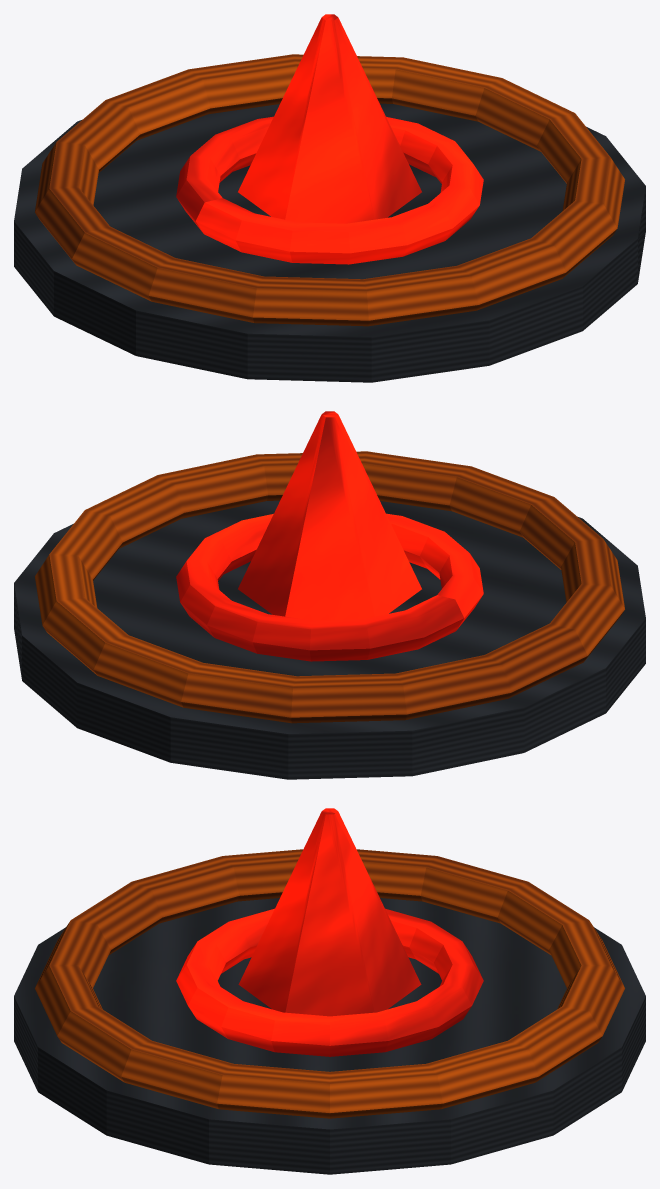
File: SM_FC_EmberSigil.fbx
3 views of the same model, one above another, from view 1: azimuth 30°, elevation 25°; view 2: azimuth 150°, elevation 25°; view 3: azimuth 270°, elevation 25° (orthographic).
Visible parts, largest first — view 1: SM_FC_EmberSigil; view 2: SM_FC_EmberSigil; view 3: SM_FC_EmberSigil.
Boxes of the visible parts, bbox=[...] form: SM_FC_EmberSigil: bbox=[14, 14, 645, 382]; SM_FC_EmberSigil: bbox=[14, 411, 645, 779]; SM_FC_EmberSigil: bbox=[14, 808, 645, 1174].
Size of what is drawn, in the model's own units: 1.52 by 0.61 by 1.52.
